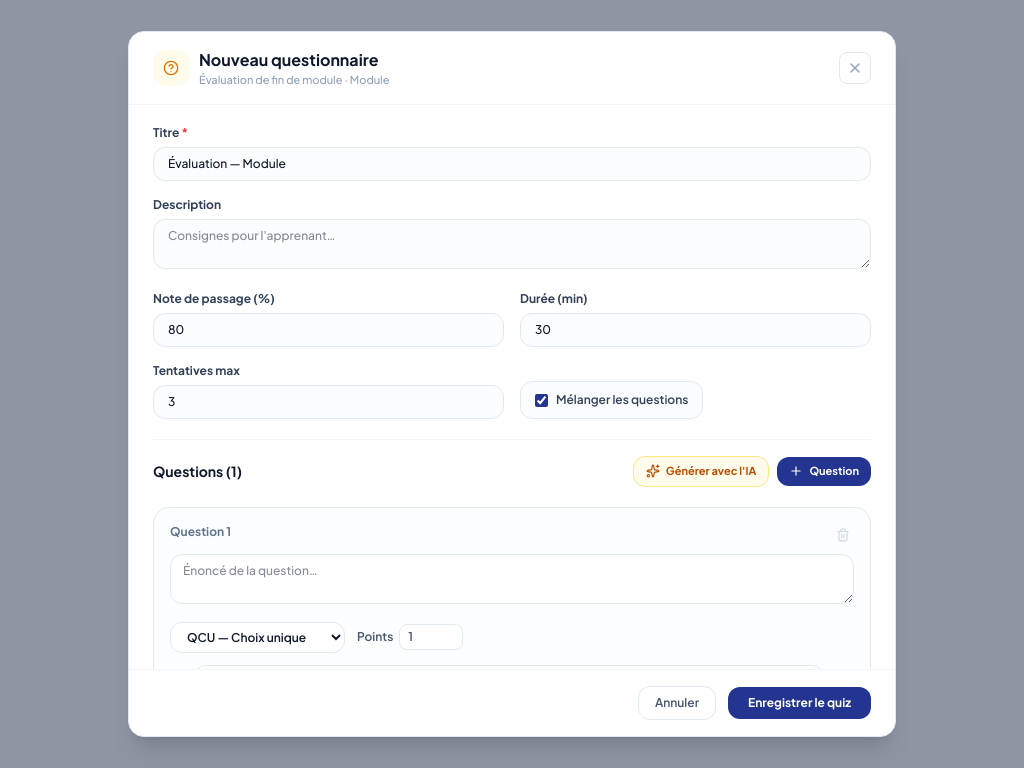
Test: QuizEditor › remplace les questions après une génération IA
Click the button "Générer avec l'IA": (701, 471) 633,456 -> 770,487
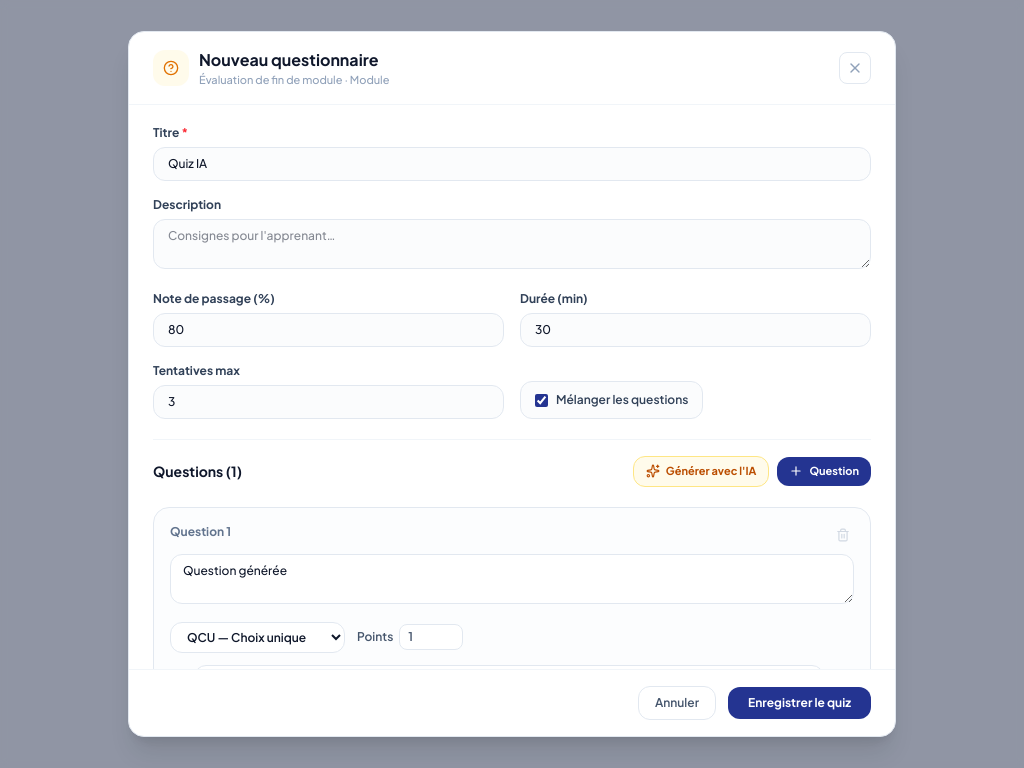
Result: the field showing "Quiz IA" is shown at 153,147 -> 871,181
Result: the text box showing "Question générée" is shown at 170,554 -> 854,604
